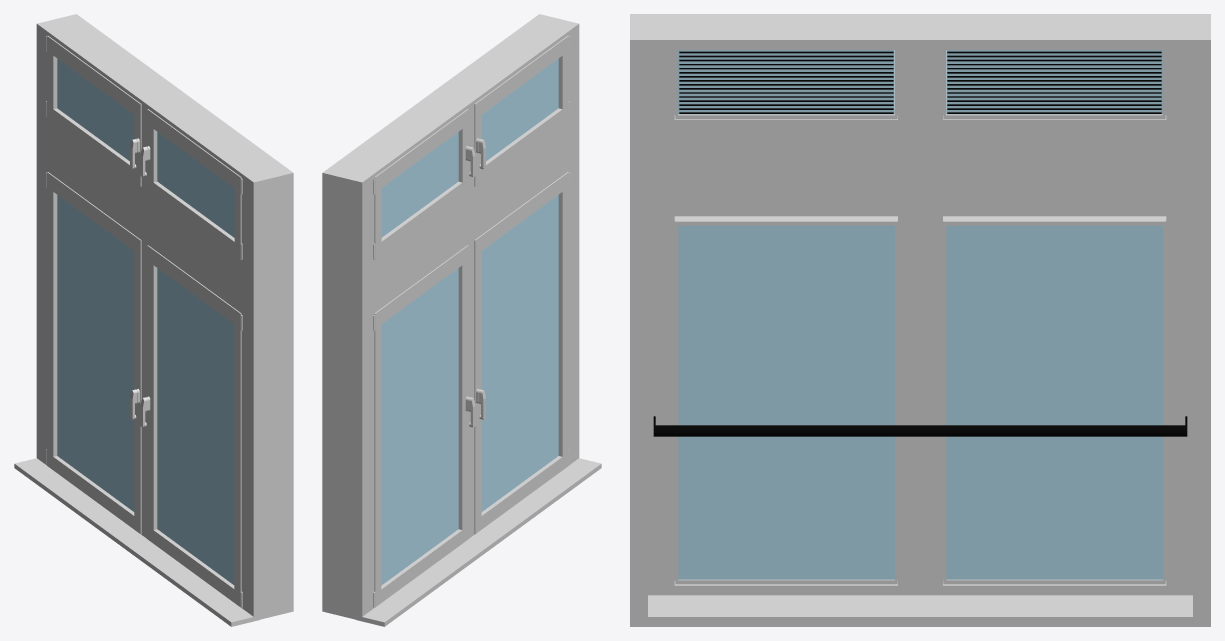
The model's file is IAIWindowTypeC.dae.
3 renders of one model, left to right at view 1: azimuth 30°, elevation 25°; view 2: azimuth 150°, elevation 25°; view 3: azimuth 270°, elevation 25°, orthographic. The views are drawn at different scales.
Parts seen in each view (by area): view 1: SM_IAIWindowTypeC; view 2: SM_IAIWindowTypeC; view 3: SM_IAIWindowTypeC.
Boxes of the visible parts, <box> form: SM_IAIWindowTypeC: <box>14,14,293,626</box>; SM_IAIWindowTypeC: <box>322,14,601,626</box>; SM_IAIWindowTypeC: <box>630,14,1210,626</box>.
Bounding box in the file's own units: 0.43 × 2.6 × 2.9.
